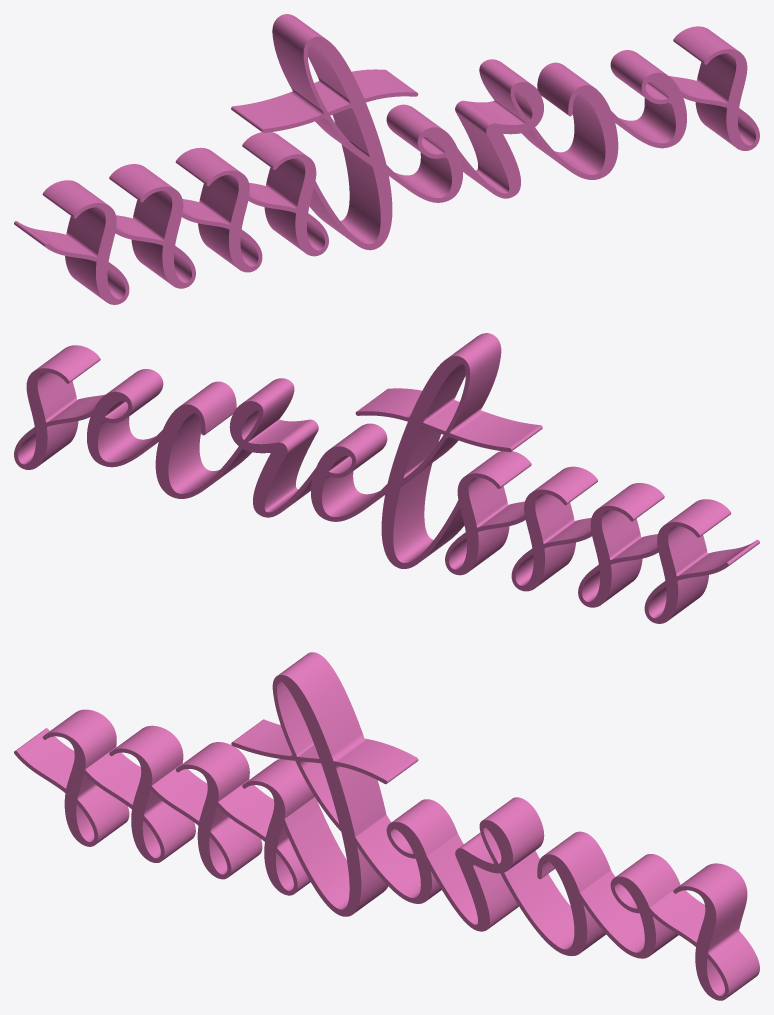
The model's file is Shadows_SecretsWord_.fbx.
The picture shows the model from 3 angles, top to bottom: view 1: azimuth 30°, elevation 25°; view 2: azimuth 150°, elevation 25°; view 3: azimuth 330°, elevation 25°; orthographic projection.
Parts seen in each view (by area): view 1: dress me.097; view 2: dress me.097; view 3: dress me.097.
Boxes of the visible parts, x1,y1,x2,y2 form: dress me.097: (14,14,759,304); dress me.097: (14,333,759,623); dress me.097: (14,652,759,1000).
Size of the model in its own units: 82.24 by 24.94 by 6.24.
